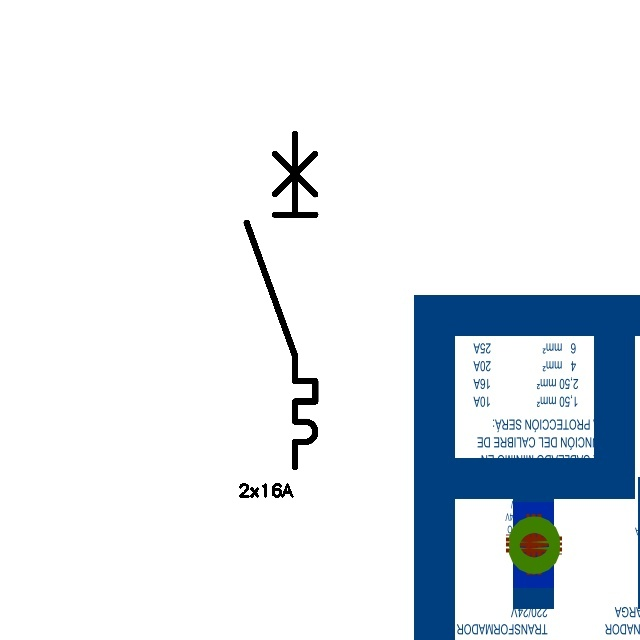interruptor_termomagnetico: (238, 125, 324, 476)
